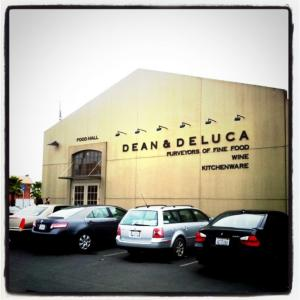Vehicle-registration-plate: (217, 238, 230, 246), (132, 232, 141, 238)
